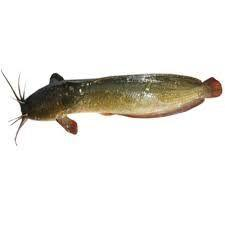Catfish: (0, 61, 224, 150)
